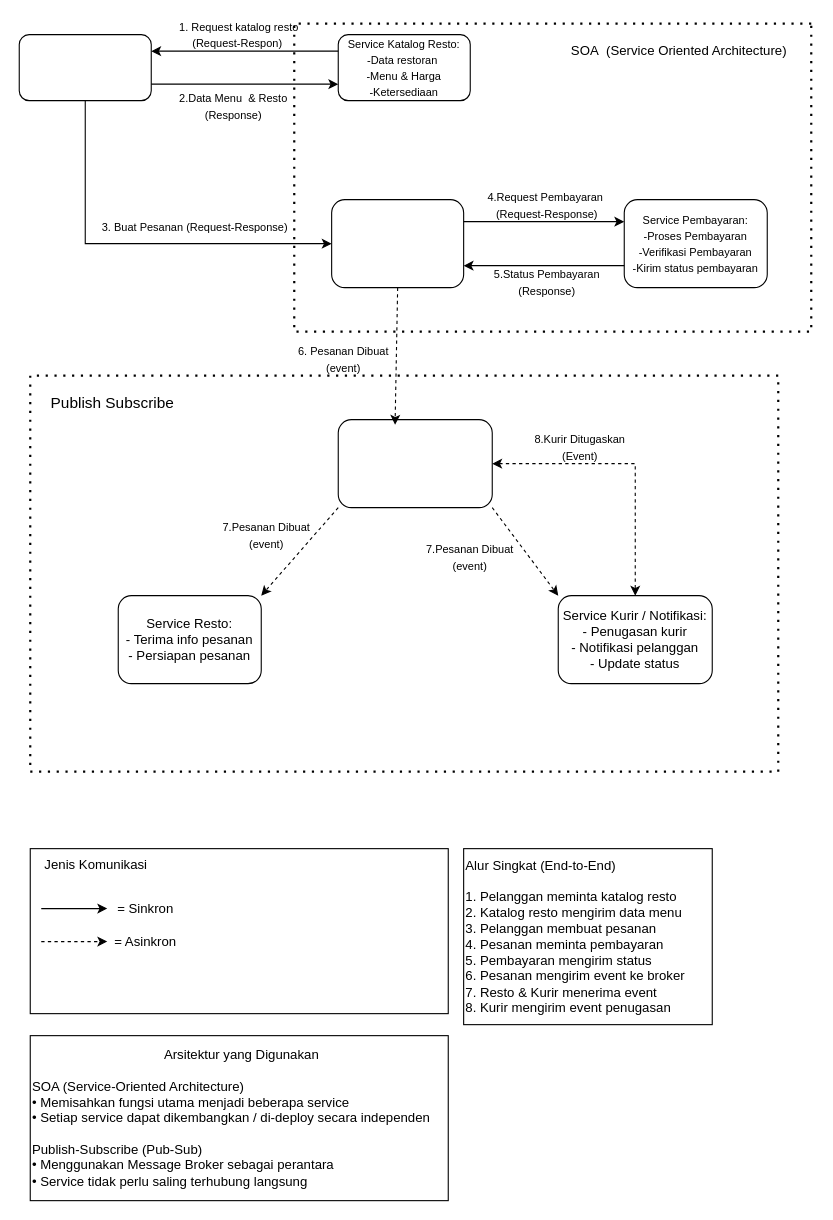
Some shapes in this 833 by 1220 pixel diagram are drawn without their labels. Each missing label, with the centre of its shape:
"Message Broker: - Terima event -Distribusi ke subscriber" belongs at (414,463).
"Pelanggan" belongs at (84,67).
"Service Pesanan: -Buat & kelola pesanan -Update status pemesan -Generate event" belongs at (397,243).
